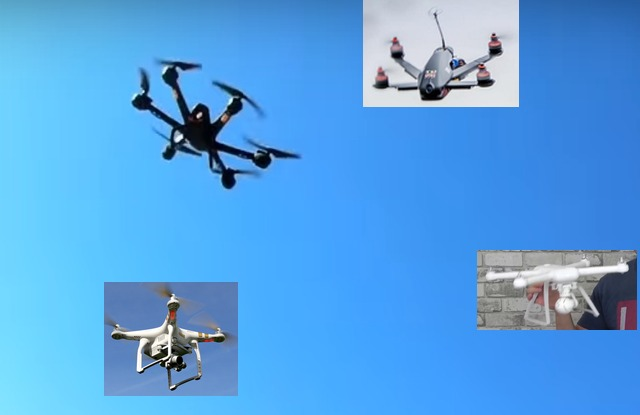drone: (132, 56, 303, 190), (363, 0, 519, 107), (104, 282, 238, 396), (477, 250, 637, 330)
